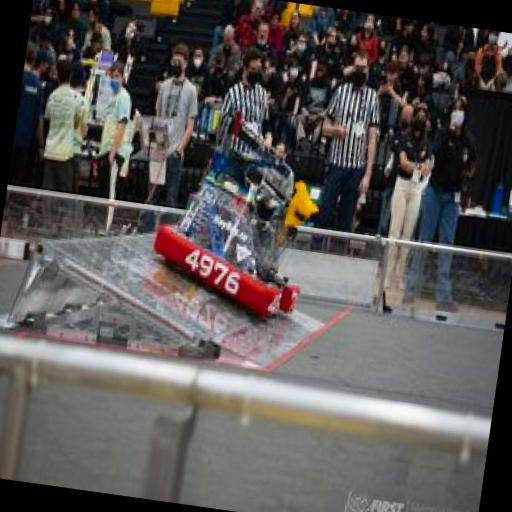robot: (144, 94, 327, 338)
